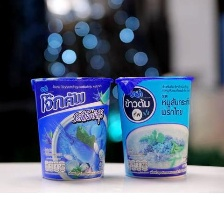paper_cup: (27, 72, 115, 186), (112, 72, 198, 185)
